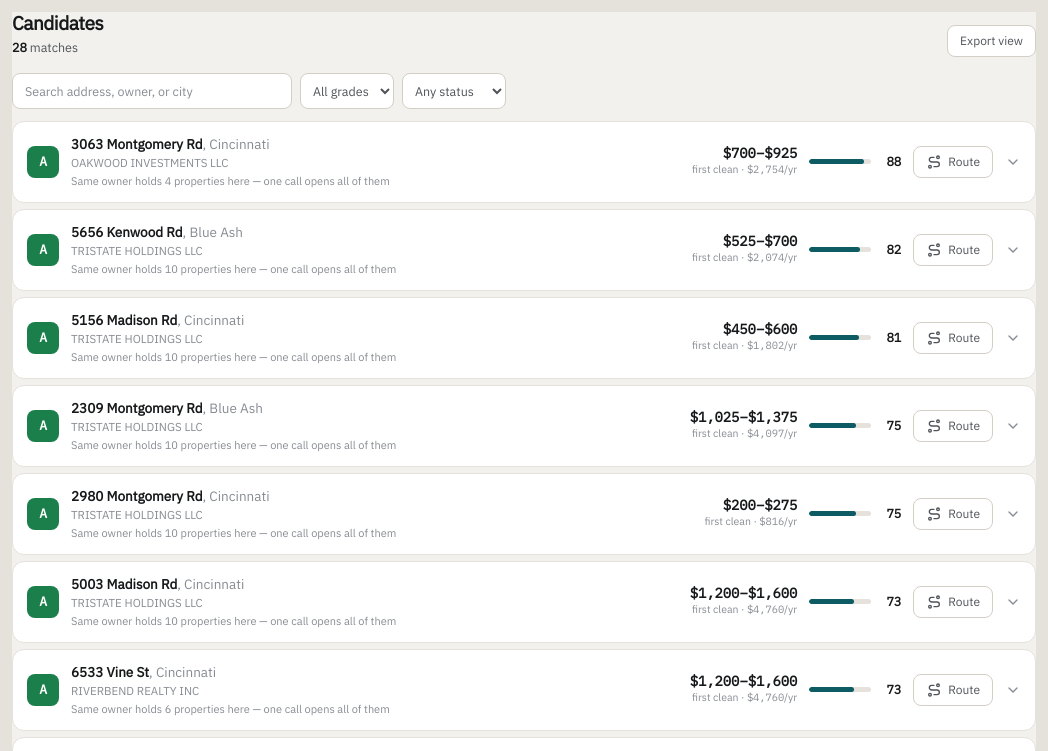
Test: Candidates › renders ranked prospects with grade badges and score breakdown on expand
The image size is (1048, 751).
Click the element showing "3063 Montgomery Rd, Cincinnati". click: (170, 144)
box: top-left (71, 134), bottom-right (270, 152)
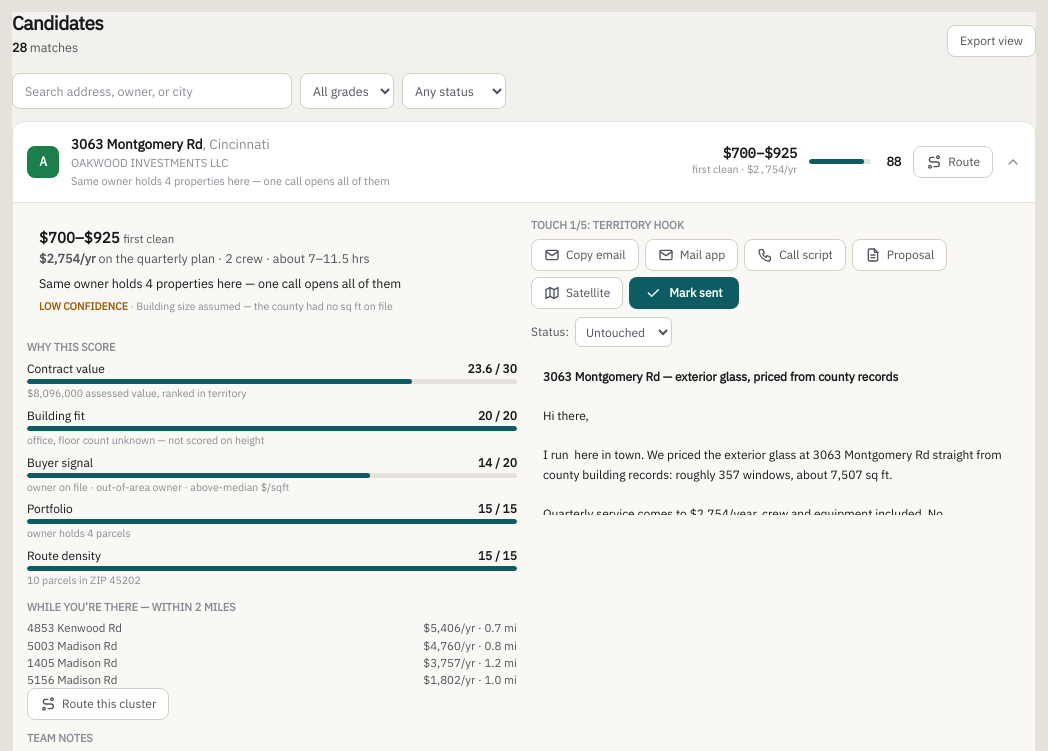
Expected: the text "Contract value" is shown, top-left (27, 361), bottom-right (105, 377)
Expected: the text "Building fit" is shown, top-left (27, 408), bottom-right (85, 424)
Expected: the text "Buyer signal" is shown, top-left (27, 454), bottom-right (93, 470)
